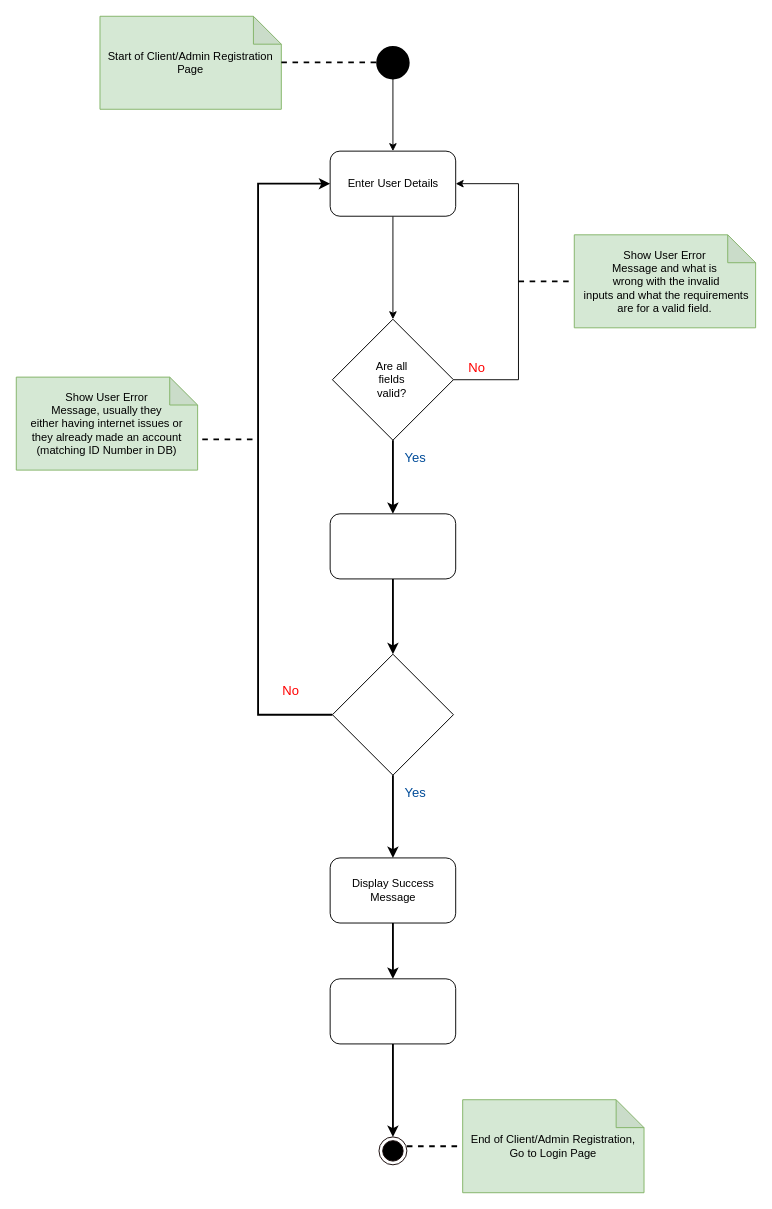
Some shapes in this 772 by 1209 pixel diagram are drawn without their labels. Here are the shapes that lost their labels. From the top down, the box of each, then its label:
(329, 513, 456, 579): Tap on Create Account
(331, 653, 454, 775): Successful Account Creation?
(329, 978, 456, 1044): Go To Login Page
